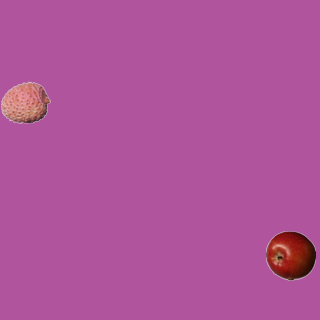Apple Braeburn: (265, 230, 315, 280)
Lychee: (0, 77, 50, 127)
